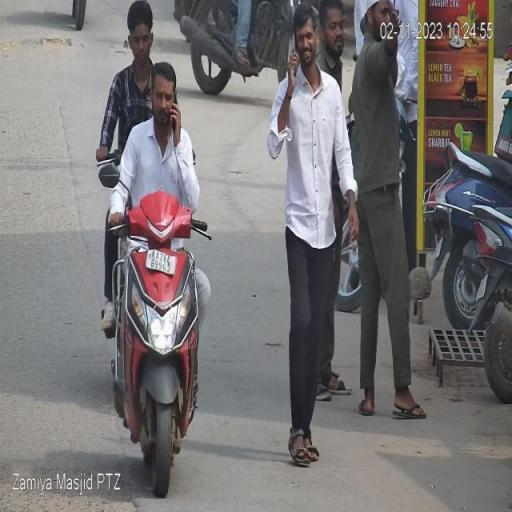using mobile: (169, 85, 181, 137)
